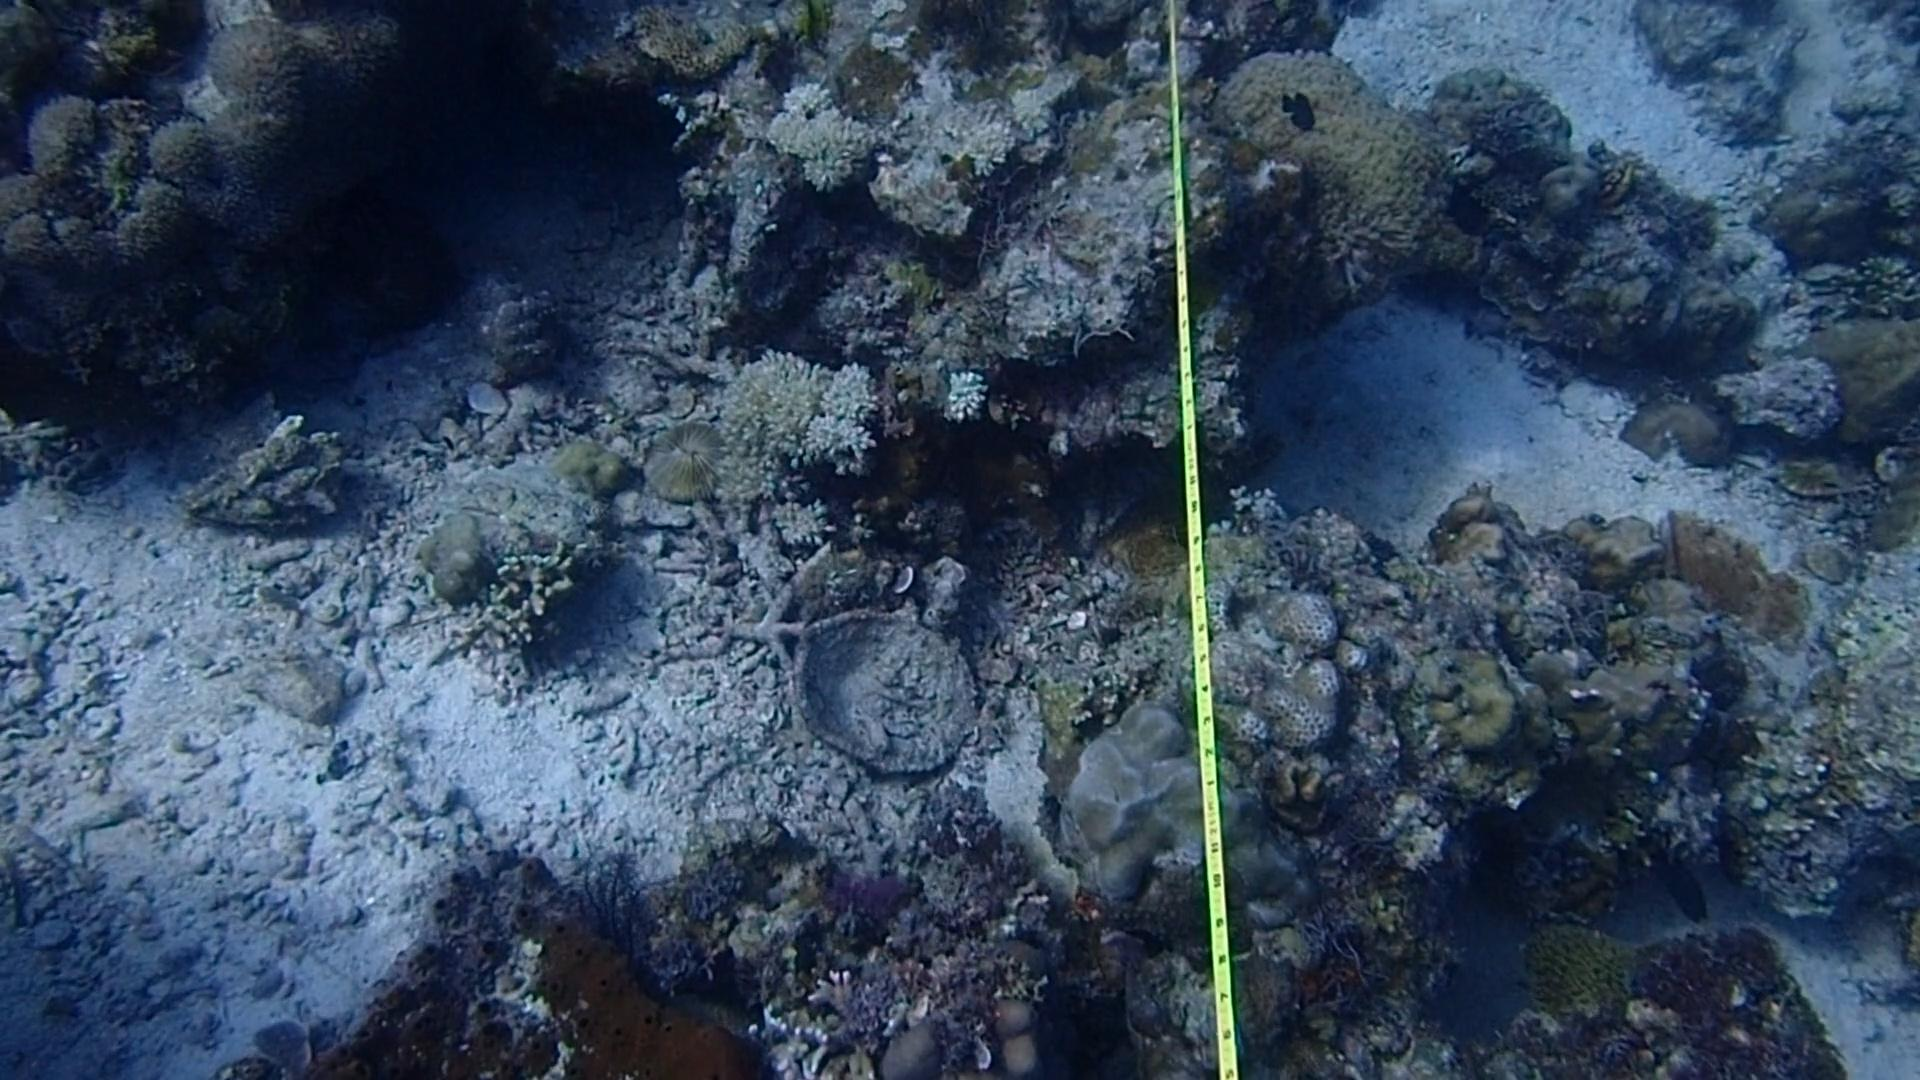Dark Fish: (1636, 835, 1714, 932), (1423, 167, 1503, 245), (1275, 80, 1327, 149)
